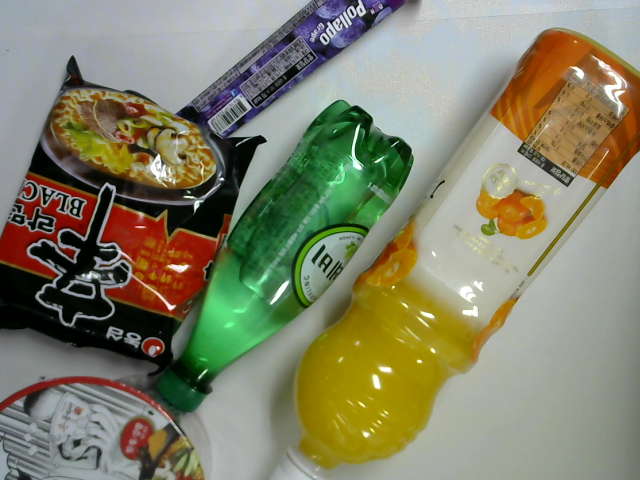Hejangpul: (1, 375, 225, 480)
Jeju_Tangerine_1.5L: (253, 22, 640, 478)
Polapo_Grape: (147, 1, 433, 158)
Sinramen_Black: (1, 47, 269, 385)
Treviraim_500ml: (147, 101, 421, 418)
